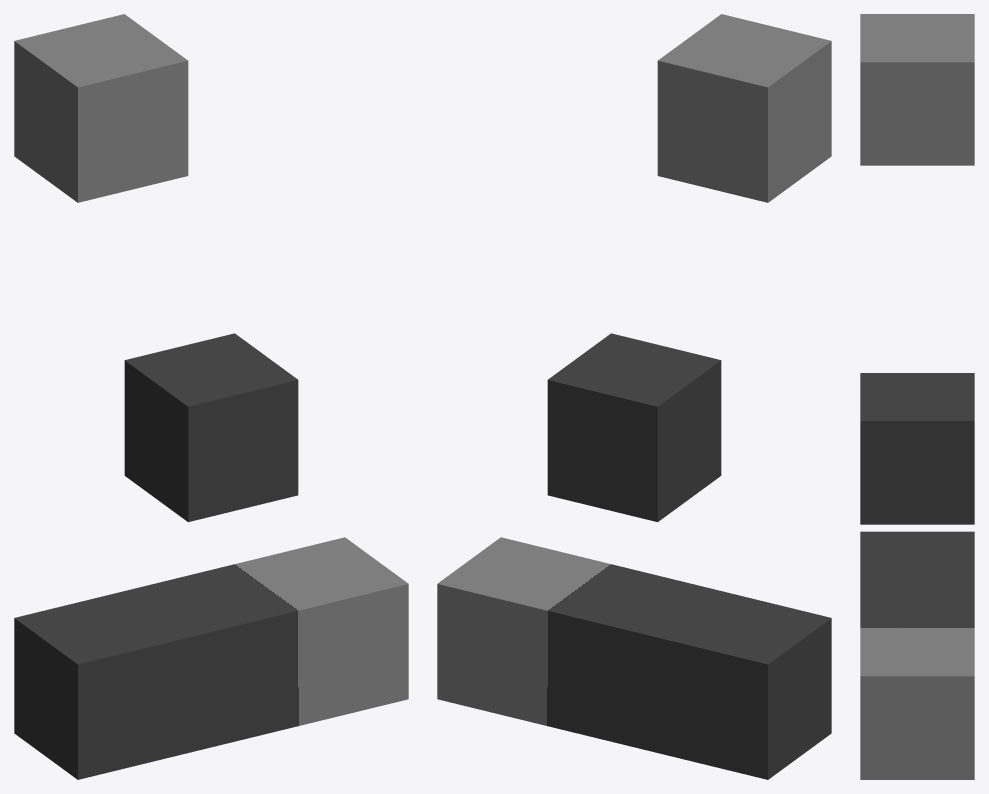
Rendered from obj_fire5.fbx.
3 views of the same model, side by side, from view 1: azimuth 30°, elevation 25°; view 2: azimuth 150°, elevation 25°; view 3: azimuth 270°, elevation 25° (orthographic). The views are drawn at different scales.
Parts seen in each view (by area): view 1: obj_fire5; view 2: obj_fire5; view 3: obj_fire5.
Boxes of the visible parts, <box> form: obj_fire5: <box>14,14,408,779</box>; obj_fire5: <box>437,14,831,779</box>; obj_fire5: <box>860,14,974,779</box>.
Size of the model in its own units: 0.3 by 0.1 by 0.6.
1 material, 1 textured.
